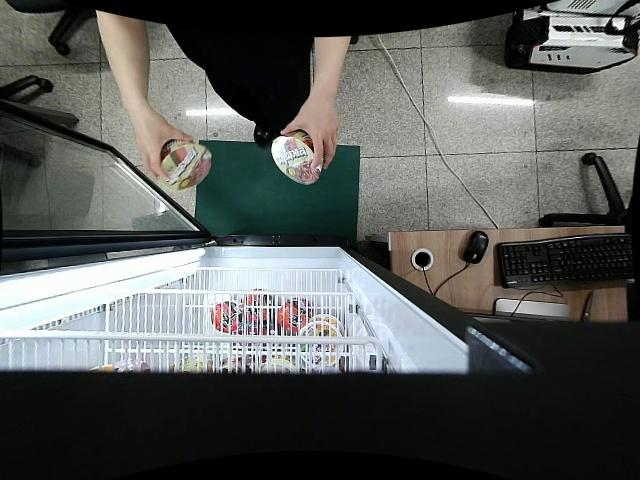00_hand: (135, 111, 195, 183), (281, 105, 340, 171)
03_chapagetti_L: (157, 138, 213, 189), (271, 132, 323, 185)
